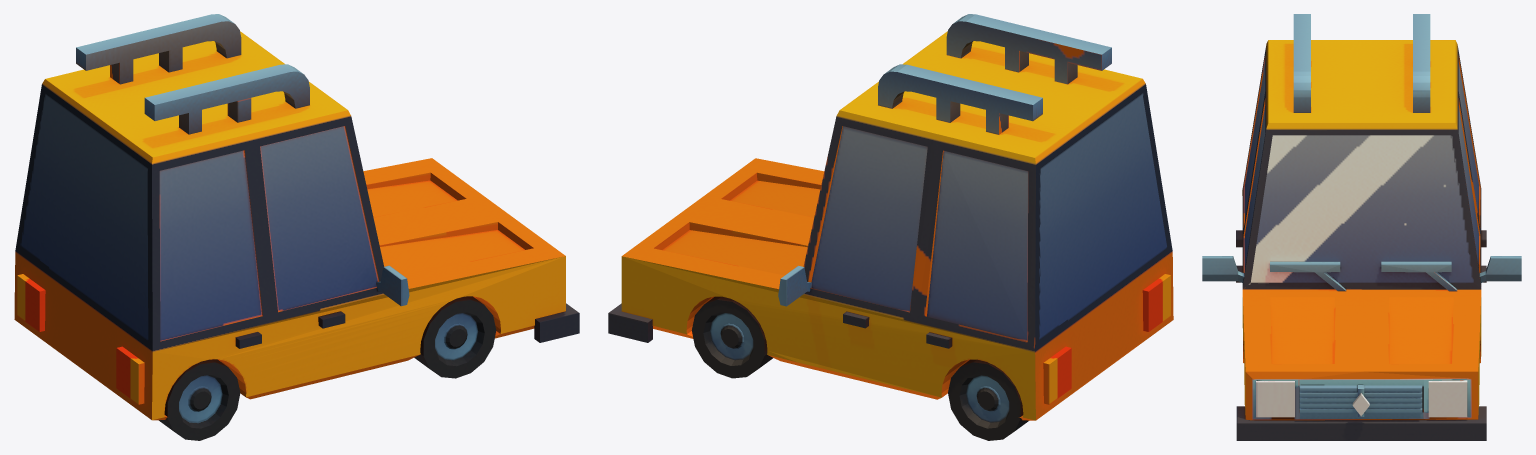
The model's file is car.gltf.
The picture shows the model from 3 angles, left to right: view 1: azimuth 30°, elevation 25°; view 2: azimuth 150°, elevation 25°; view 3: azimuth 270°, elevation 25°; orthographic projection. The views are drawn at different scales.
Visible parts, largest first — view 1: CarPark_1; view 2: CarPark_1; view 3: CarPark_1.
Part boxes in pixels (x1,y1,x2,y2): CarPark_1: (14, 14, 579, 440); CarPark_1: (608, 14, 1173, 440); CarPark_1: (1202, 14, 1521, 440).
Size of the model in its own units: 3.68 by 2.57 by 2.67.
Materials: 1 (1 with a texture image).
